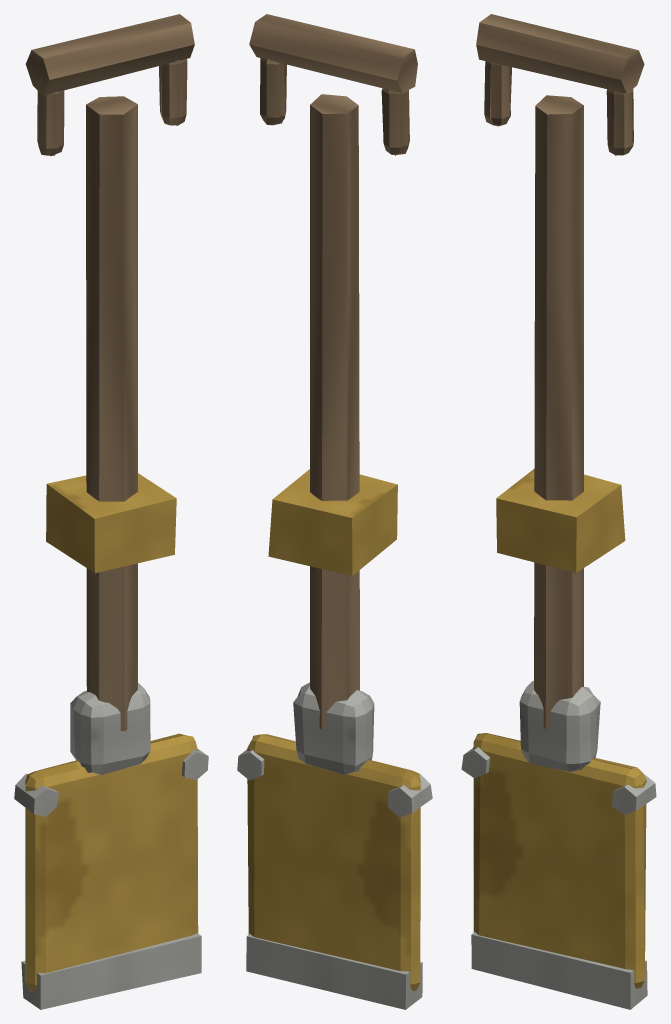
The model's file is golden_shovel.glb.
3 views of the same model, side by side, from view 1: azimuth 30°, elevation 25°; view 2: azimuth 150°, elevation 25°; view 3: azimuth 330°, elevation 25° (orthographic).
Parts seen in each view (by area): view 1: GoldenShovel; view 2: GoldenShovel; view 3: GoldenShovel.
Boxes of the visible parts, <box> form: GoldenShovel: <box>14,14,208,1009</box>; GoldenShovel: <box>237,14,432,1009</box>; GoldenShovel: <box>461,14,656,1009</box>.
Bounding box in the file's own units: 0.1435 × 0.743 × 0.0682.
3 materials, 3 textured.
